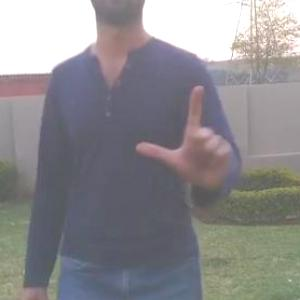land_hand: (136, 72, 244, 189)
